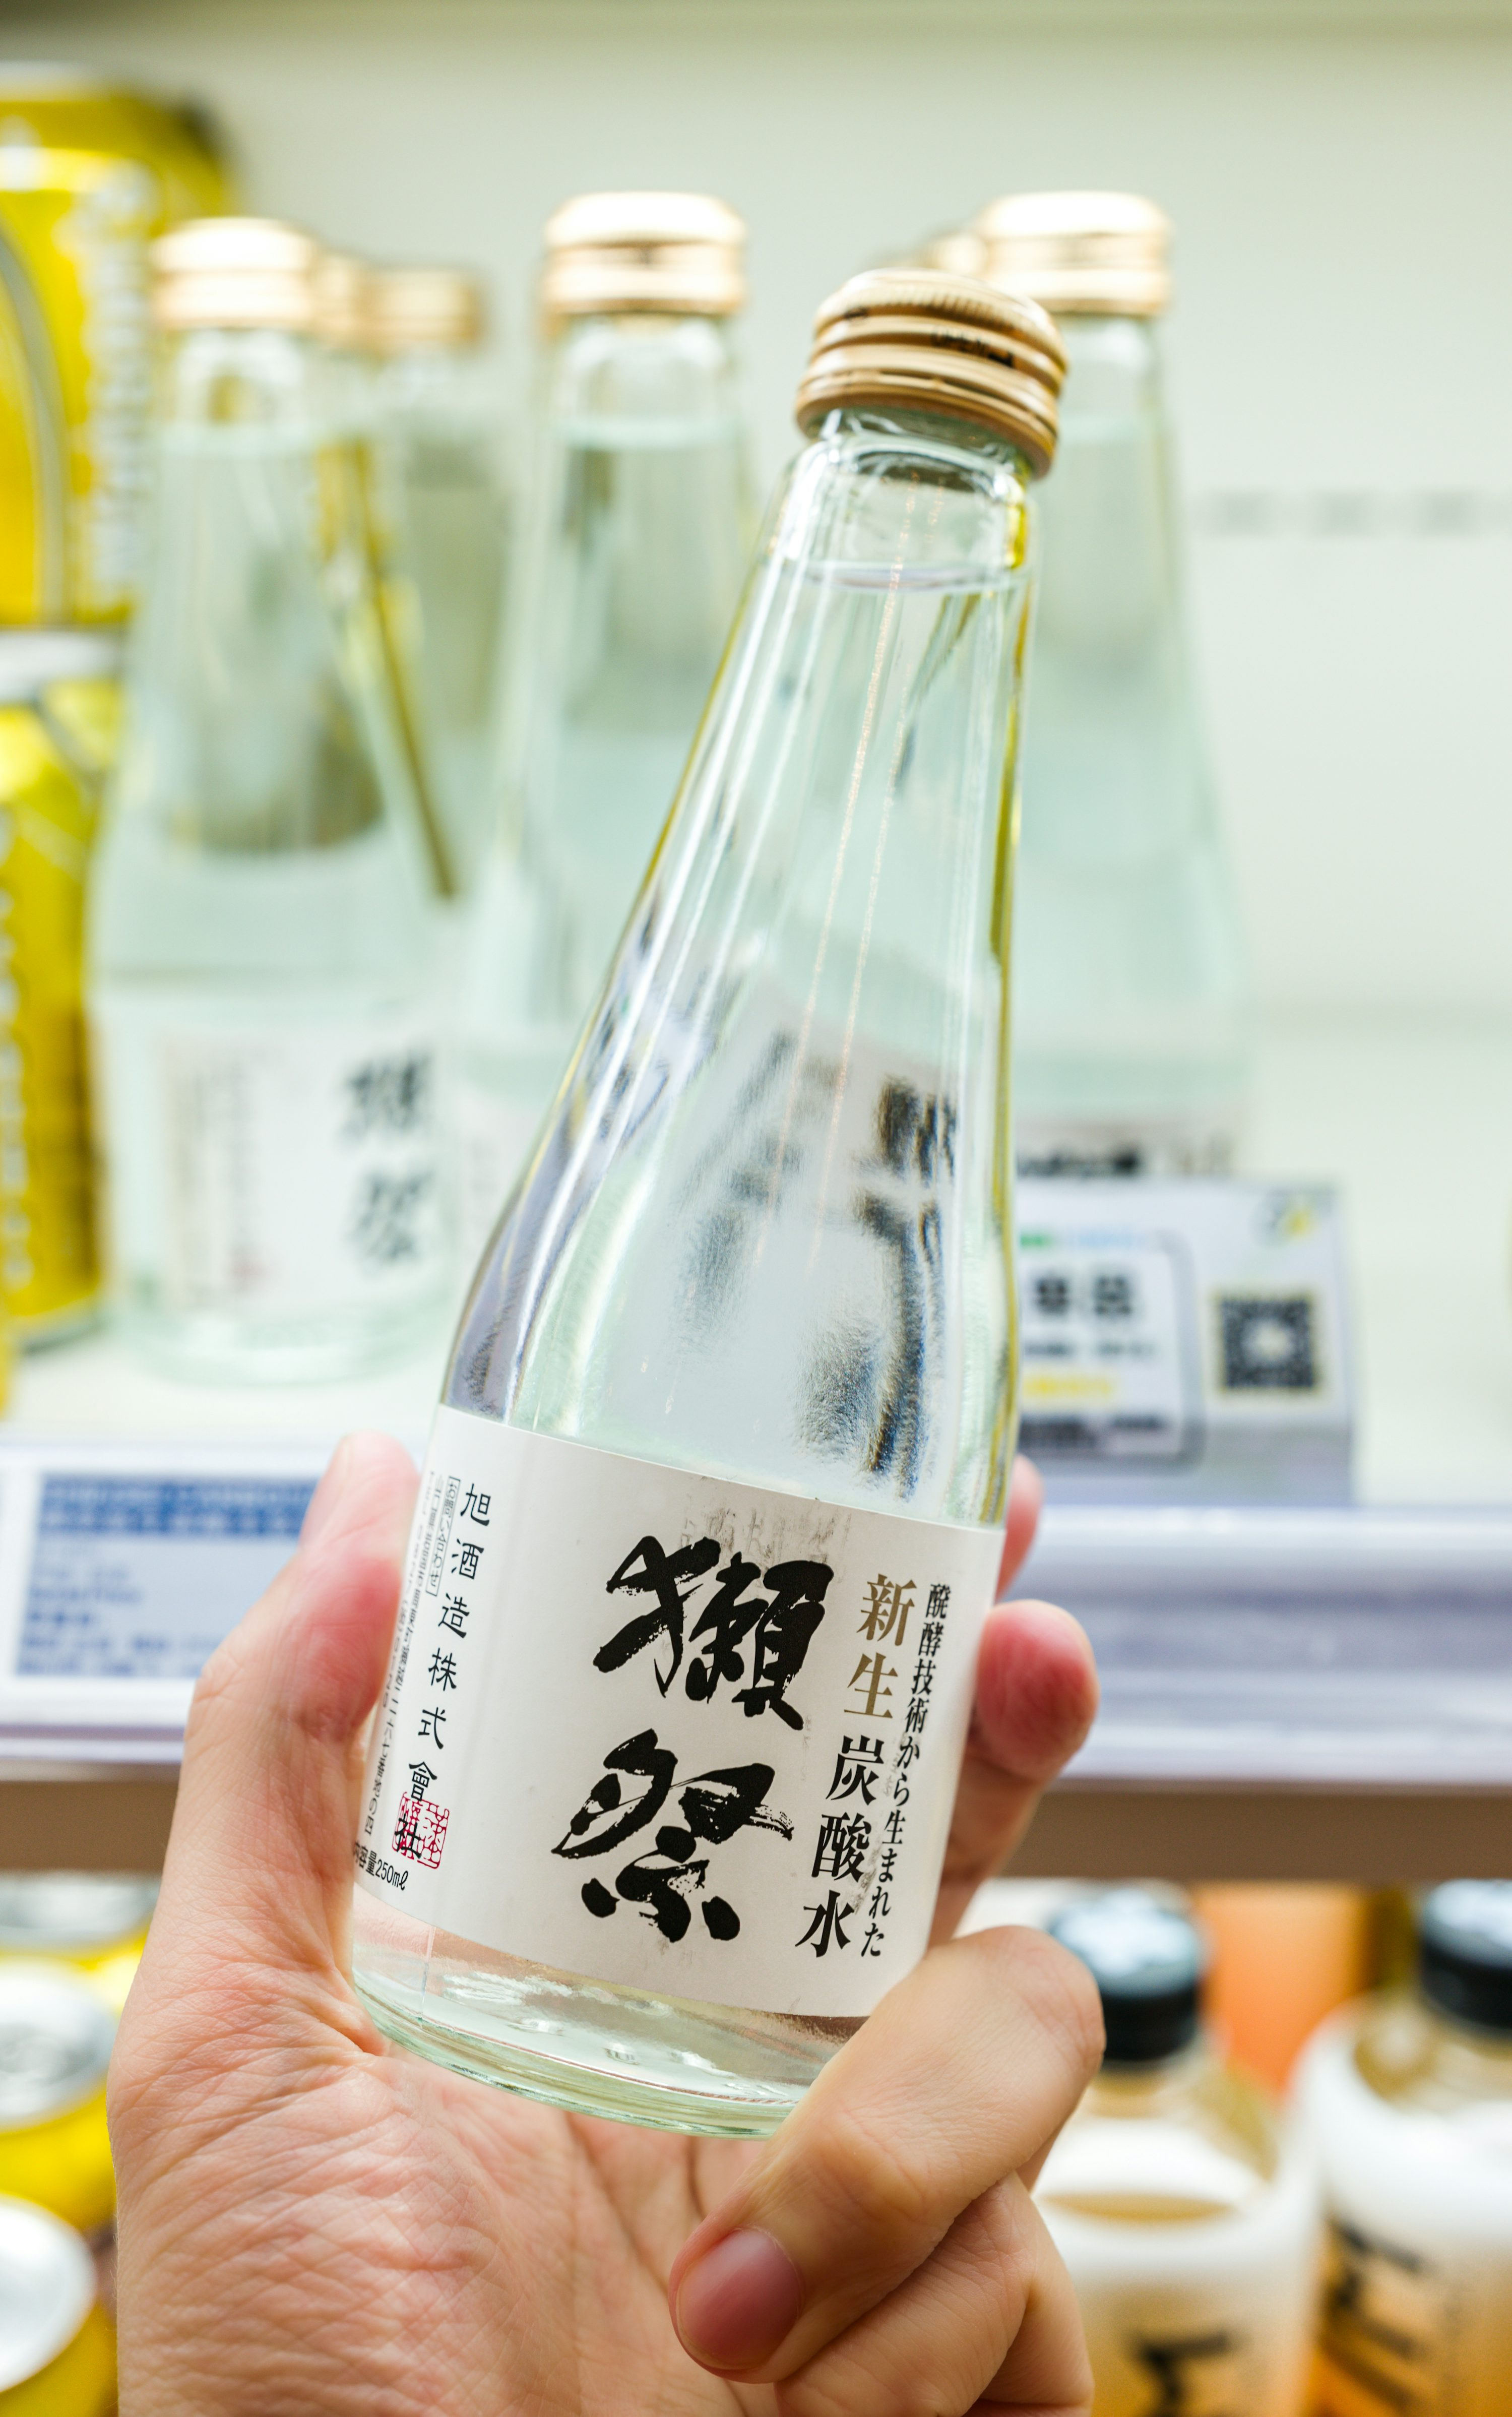glass_bottle: (347, 249, 1073, 2140)
